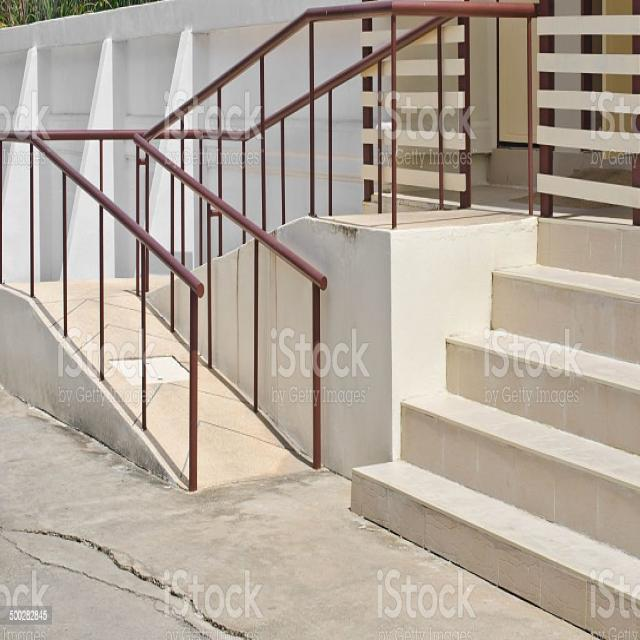AVOID: (352, 223, 640, 640)
CLIMB: (26, 302, 324, 484)
